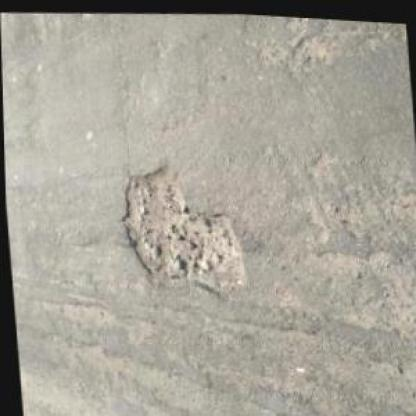pothole: (112, 151, 250, 301)
